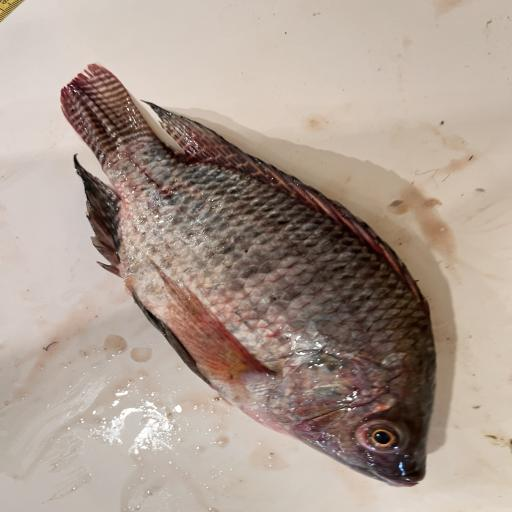Tilapia: (60, 63, 438, 488)
